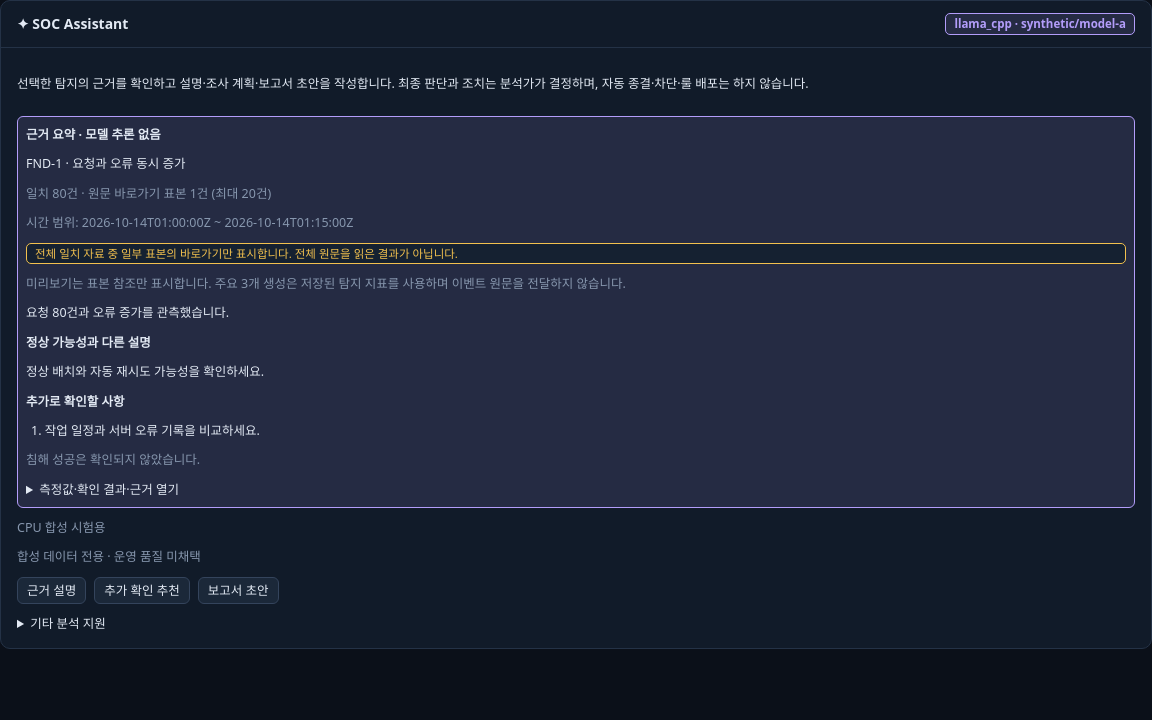
Test case: rejects mismatch server-reported scope for selected finding output
Check: the text "요청 80건과 오류 증가를 관측했습니다." is shown, box [26,304,229,322]
Click the button "근거 설명" at x=52, y=591, box [17,577,86,604]
(page scrolled)
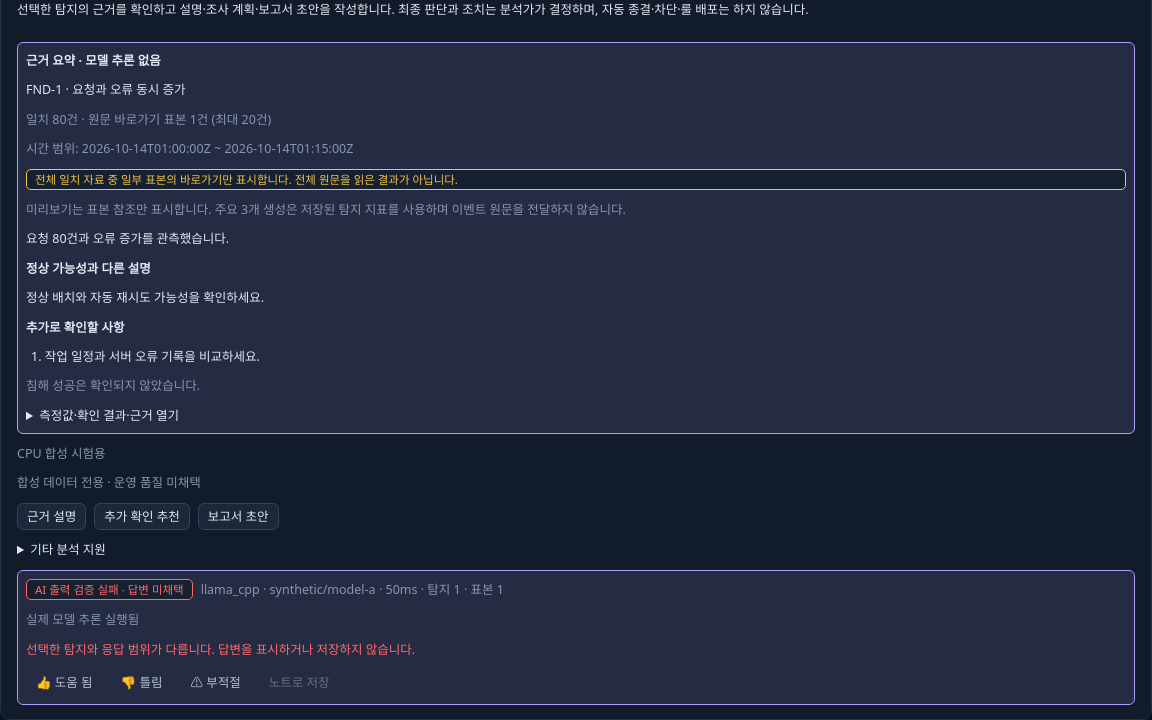
Check: the text "선택한 탐지와 응답 범위가 다릅니다. 답변을 표시하거나 저장하지 않습니다." is shown, box [26,640,415,658]
Check: the button "노트로 저장" is disabled, box [259,669,340,696]
